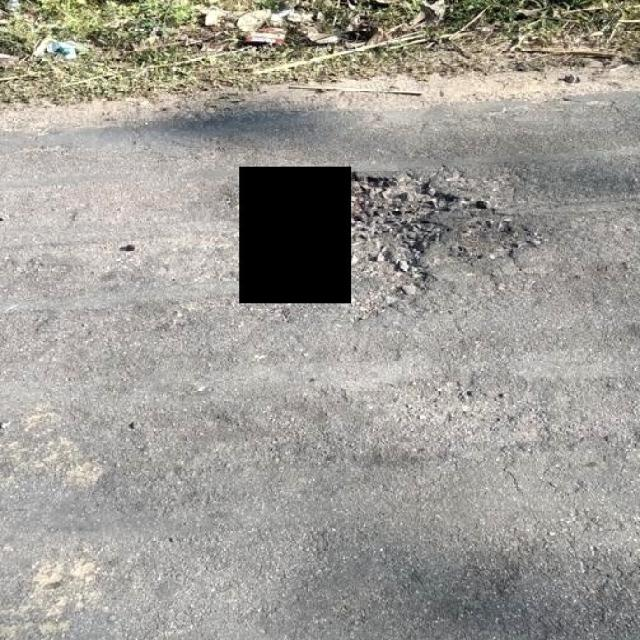road-pothole: (356, 174, 516, 284)
